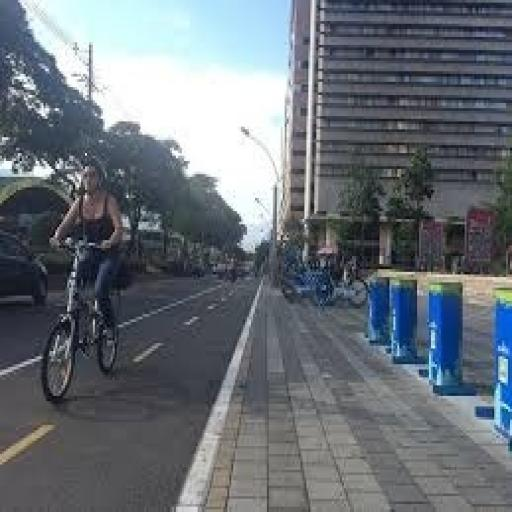cycling: (50, 156, 128, 348)
